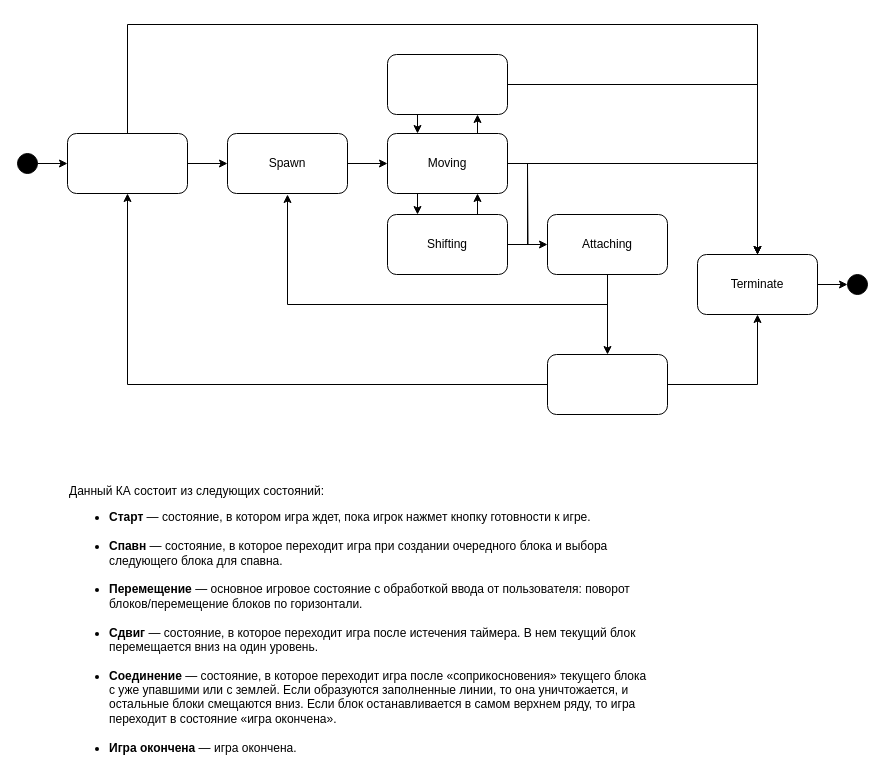
Image size: 885x784. Some labels were removed from this diagram. Each missing label, with the box of its shape:
Game Over: (546, 354, 668, 414)
Pause: (386, 54, 508, 114)
Start: (66, 132, 188, 194)
